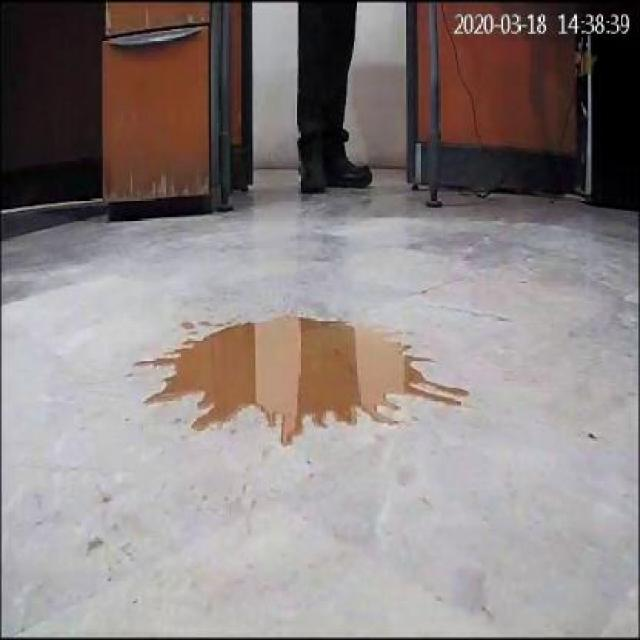spill: (138, 308, 470, 450)
